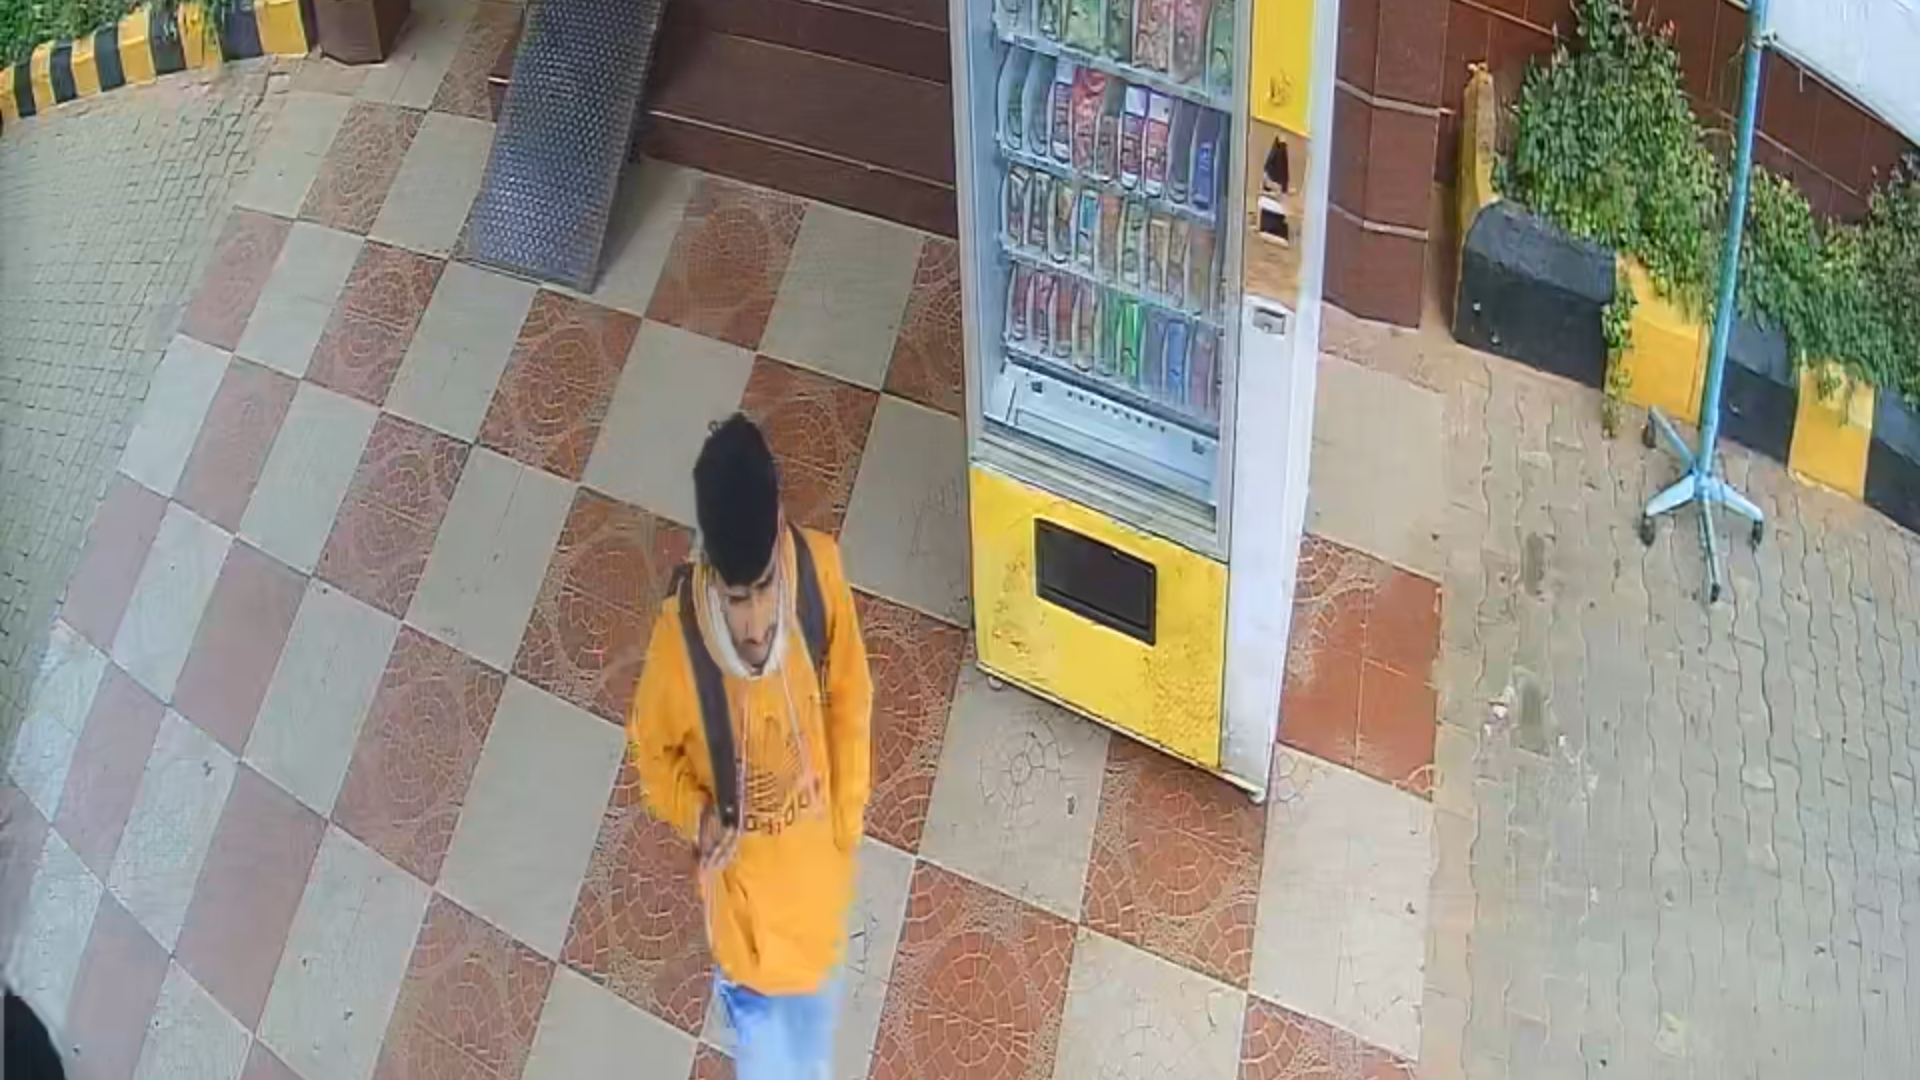intruder: (646, 410, 876, 1080)
